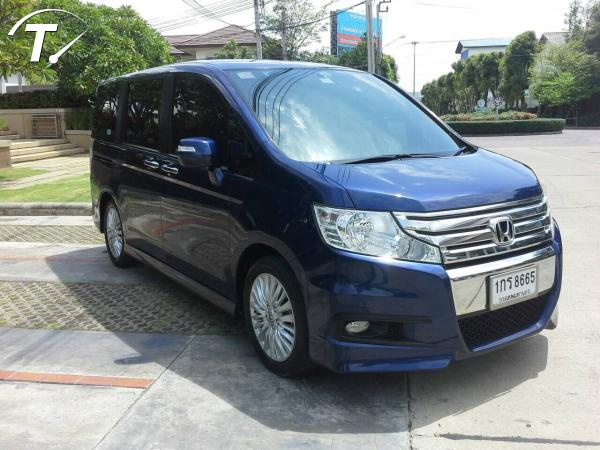van: (88, 58, 566, 379)
